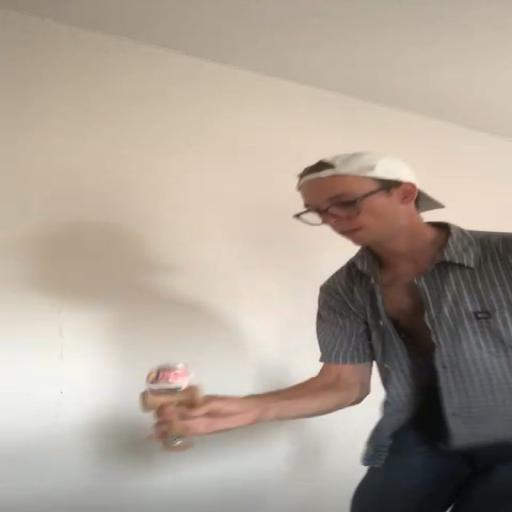kendama_ball: (146, 362, 192, 392)
